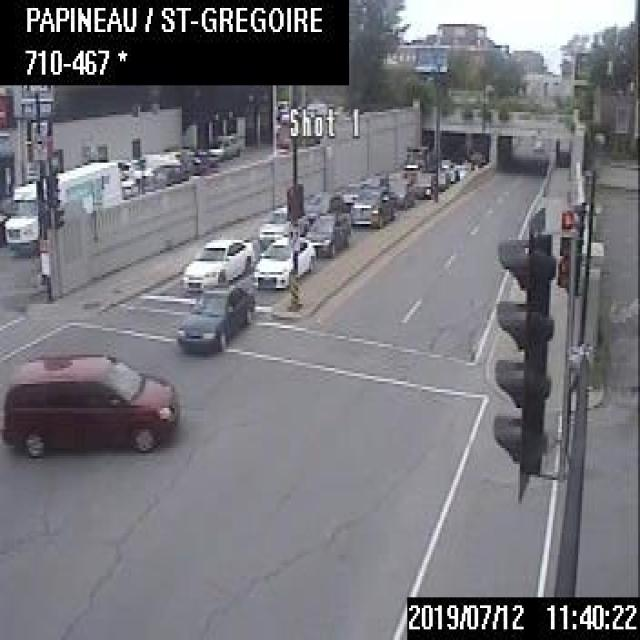vehicle: (2, 347, 178, 461), (2, 157, 120, 254), (175, 282, 255, 352), (253, 232, 314, 295), (182, 233, 254, 286), (256, 202, 307, 246), (306, 213, 350, 256), (350, 188, 392, 230), (303, 188, 342, 224), (384, 179, 413, 210), (402, 143, 434, 171), (411, 170, 434, 196), (437, 168, 448, 187)
